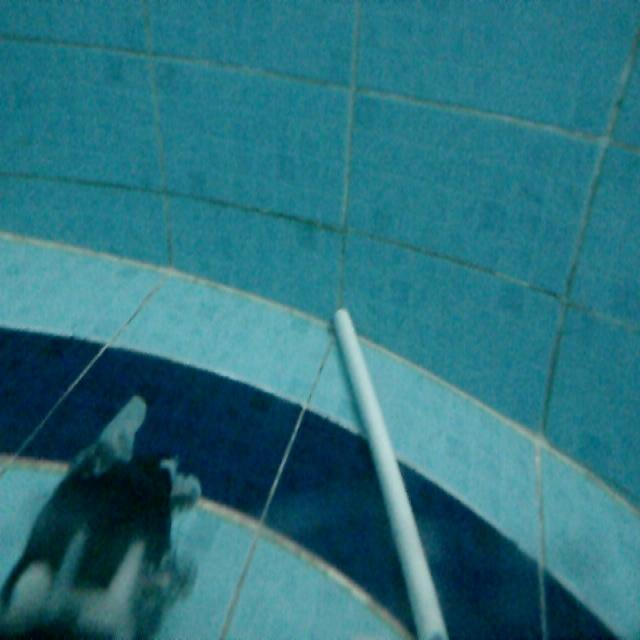Cube: (326, 301, 458, 639)
